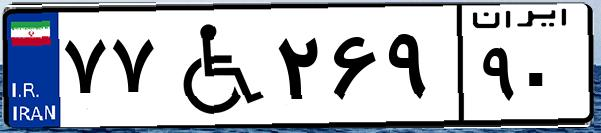0: (525, 38, 570, 115)
2: (270, 28, 330, 110)
6: (330, 28, 385, 110)
7: (57, 26, 110, 100), (110, 28, 158, 98)
9: (385, 28, 445, 110), (475, 38, 525, 113)
ژ (معلولین و جانبازان): (158, 12, 270, 120)
